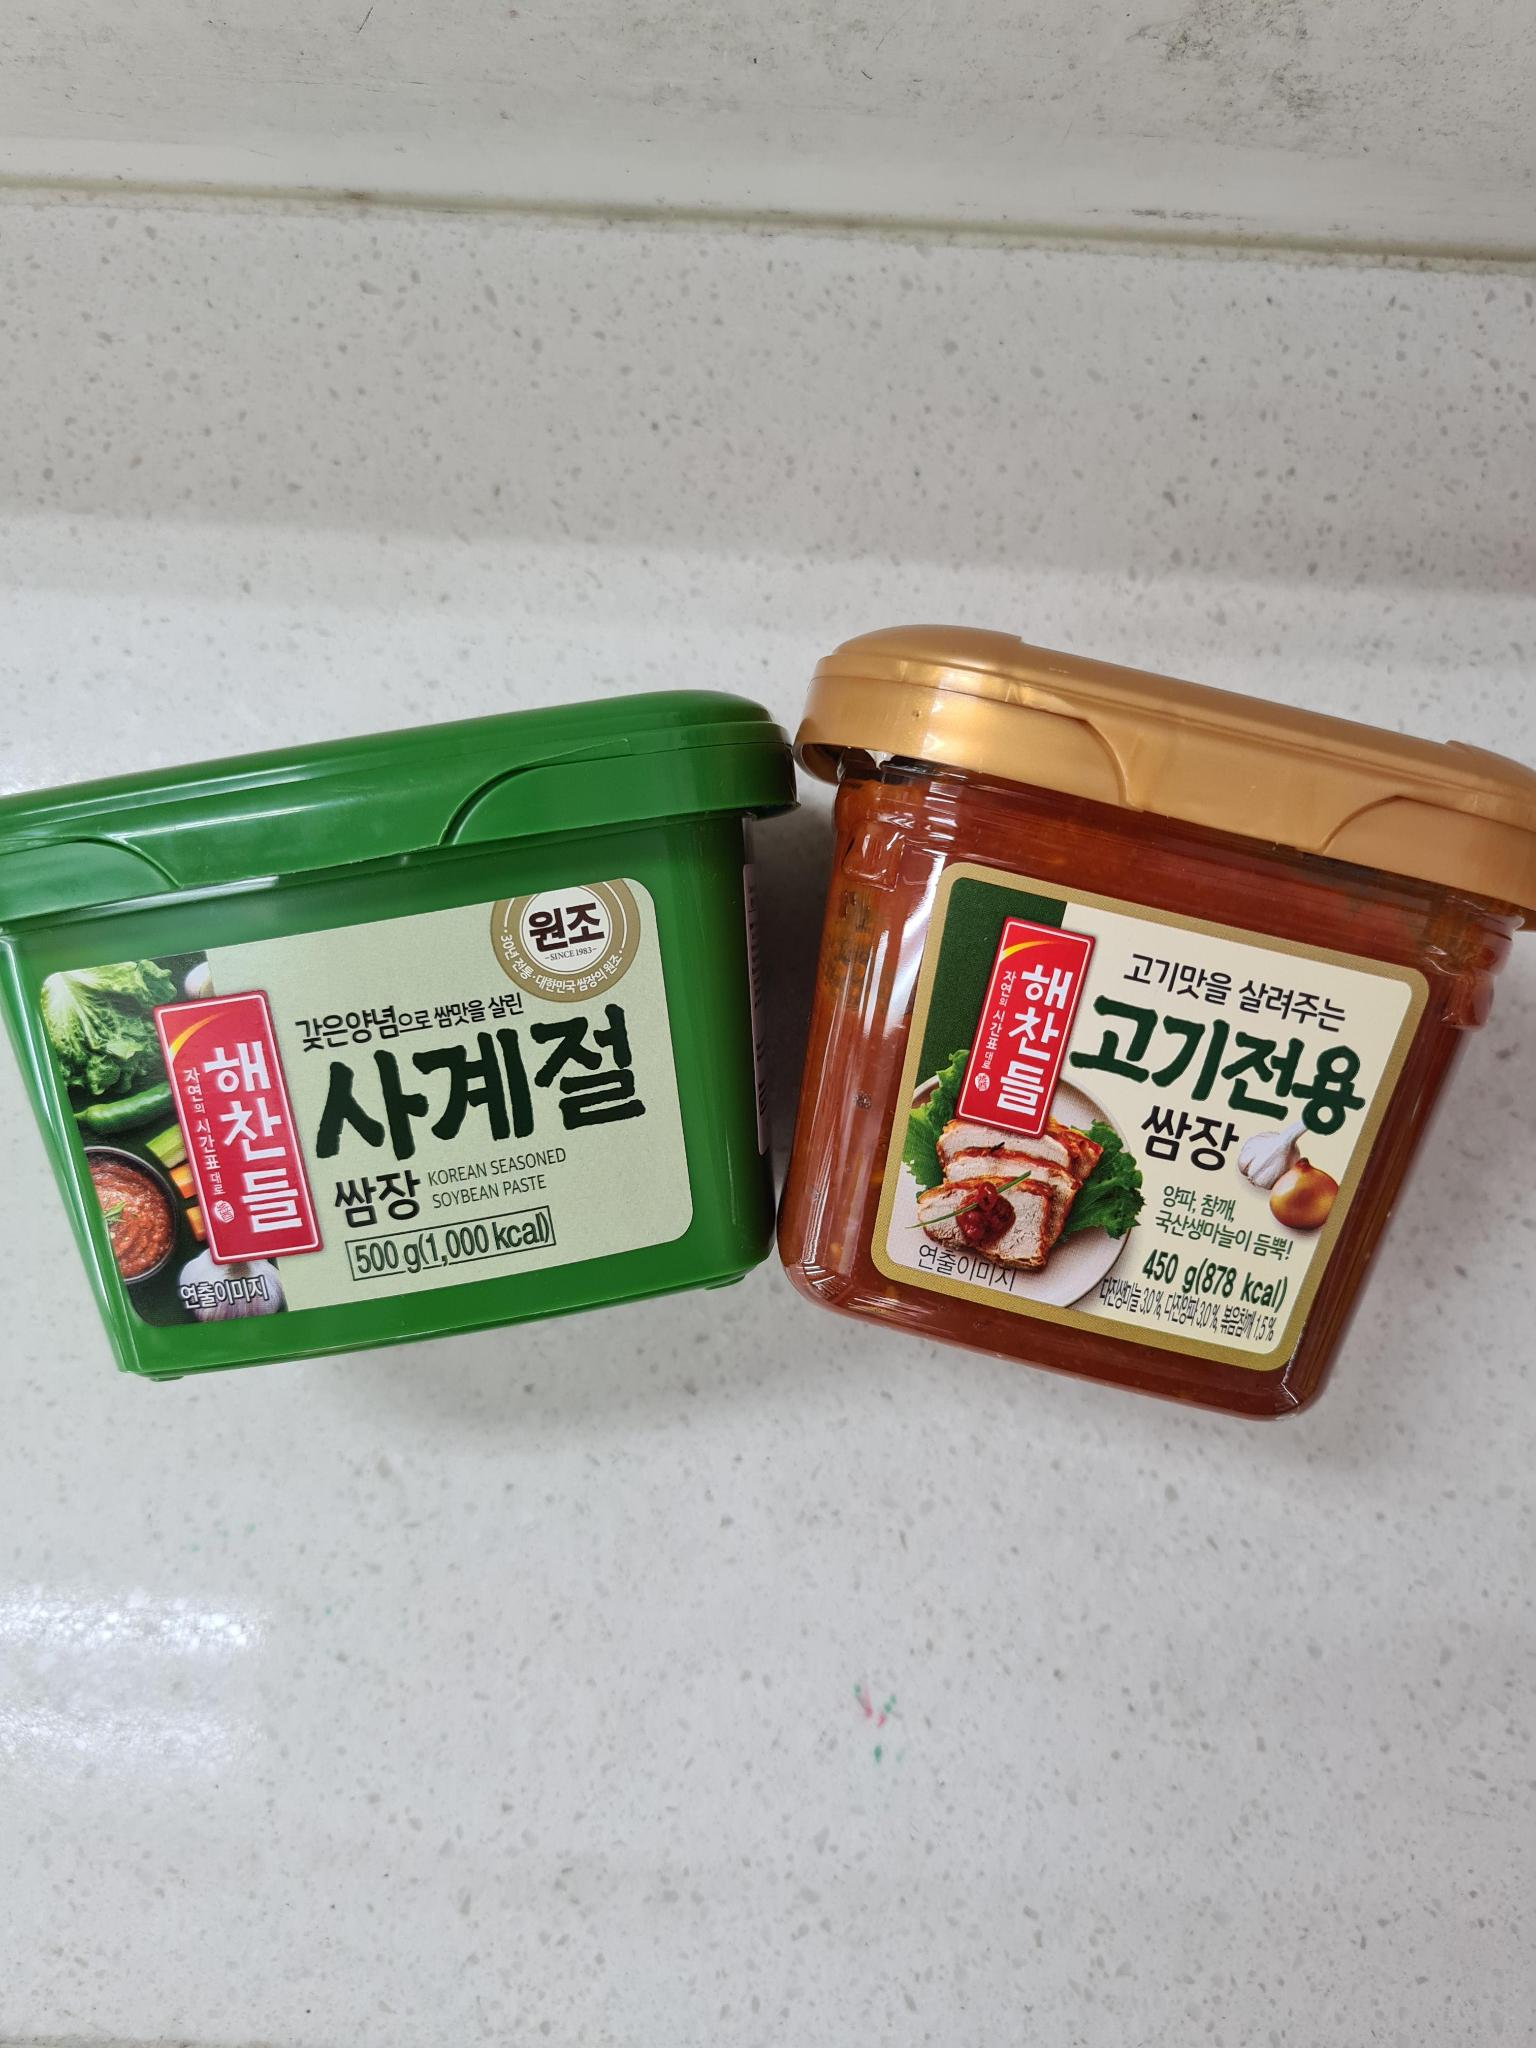plastic: (762, 614, 1536, 1432), (0, 685, 820, 1384)
